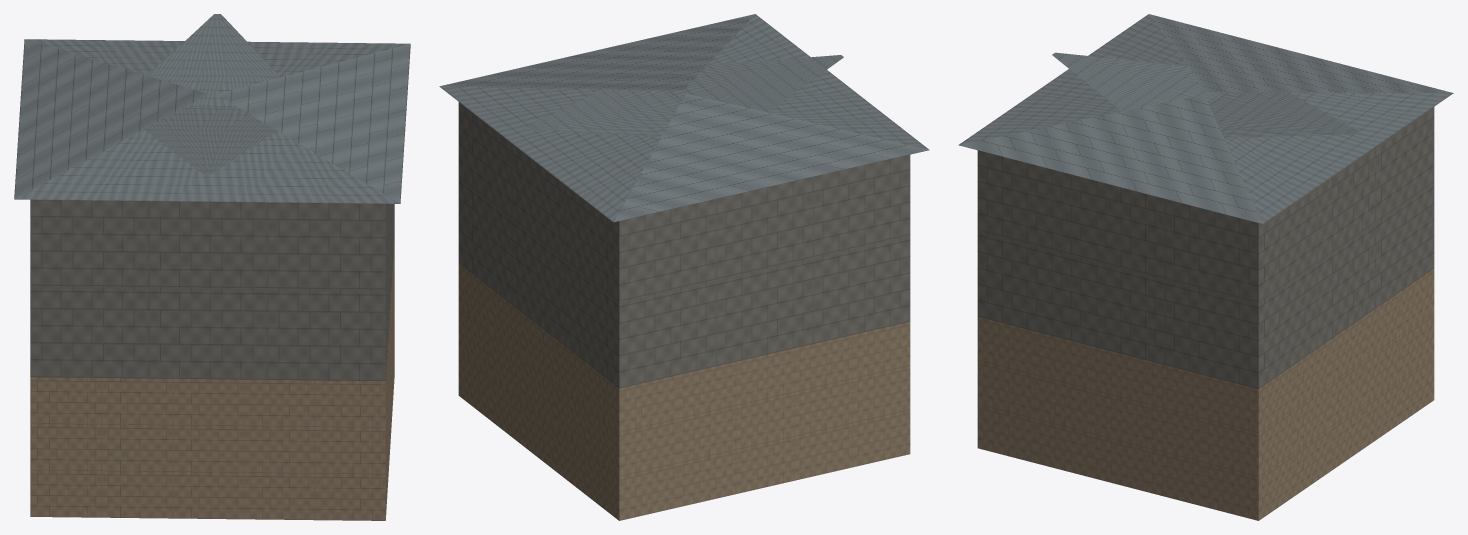
The model's file is bld_c40_-50_463.gltf.
3 views of the same model, side by side, from view 1: azimuth 30°, elevation 25°; view 2: azimuth 150°, elevation 25°; view 3: azimuth 270°, elevation 25° (orthographic). The views are drawn at different scales.
Visible parts, largest first — view 1: bld_c40_-50_463; view 2: bld_c40_-50_463; view 3: bld_c40_-50_463.
Part boxes in pixels (x1,y1,x2,y2): bld_c40_-50_463: [14, 14, 410, 520]; bld_c40_-50_463: [439, 14, 929, 520]; bld_c40_-50_463: [958, 14, 1453, 520].
Size of the model in its own units: 17.45 by 12.8 by 17.38.
Materials: 3 (3 with a texture image).
